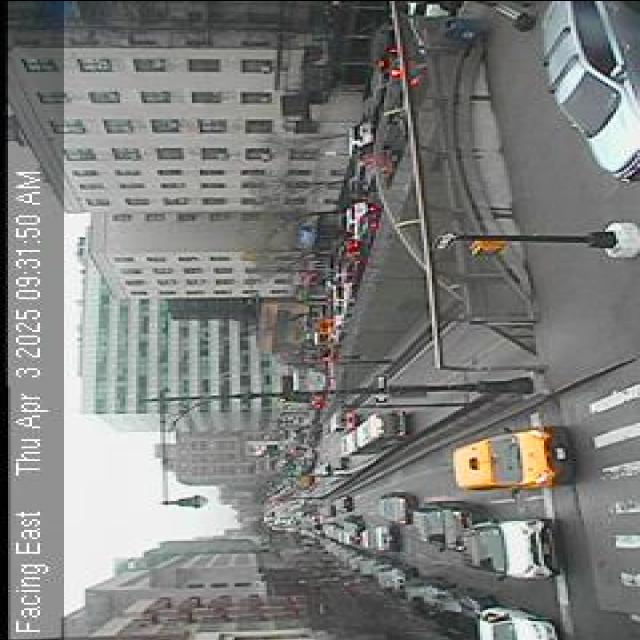parkedCars: (342, 575, 543, 640), (310, 560, 412, 582)
